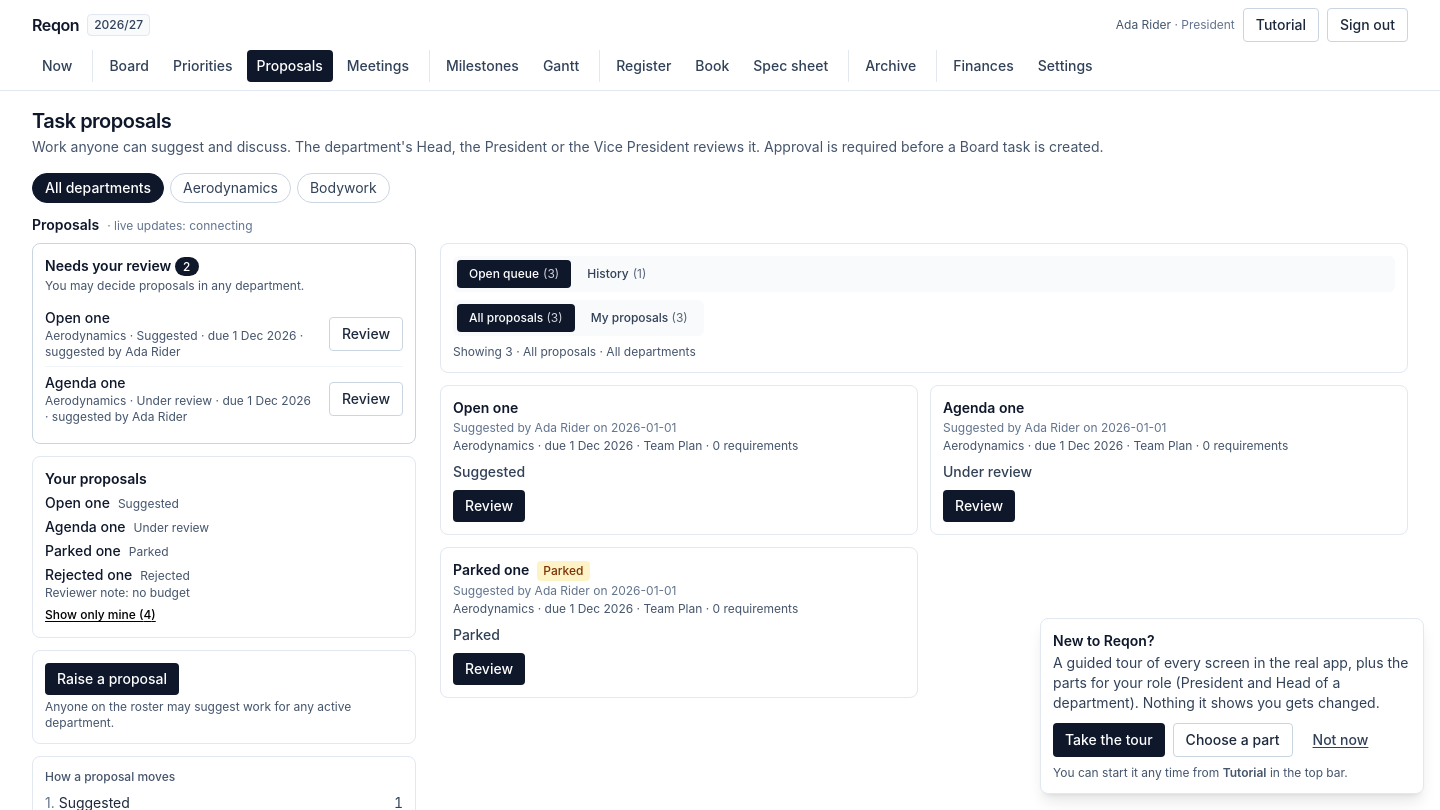
Scenario: a proposal is never a dead end › keeps parked work in the queue, marked, and moves decided work to History
Expected: the list item with test id "proposal-a" is shown, [440,385,918,535]
Expected: the list item with test id "proposal-c" is shown, [440,547,918,698]
Click the button "History(1)". click: (617, 274)
box: [575,260,658,288]
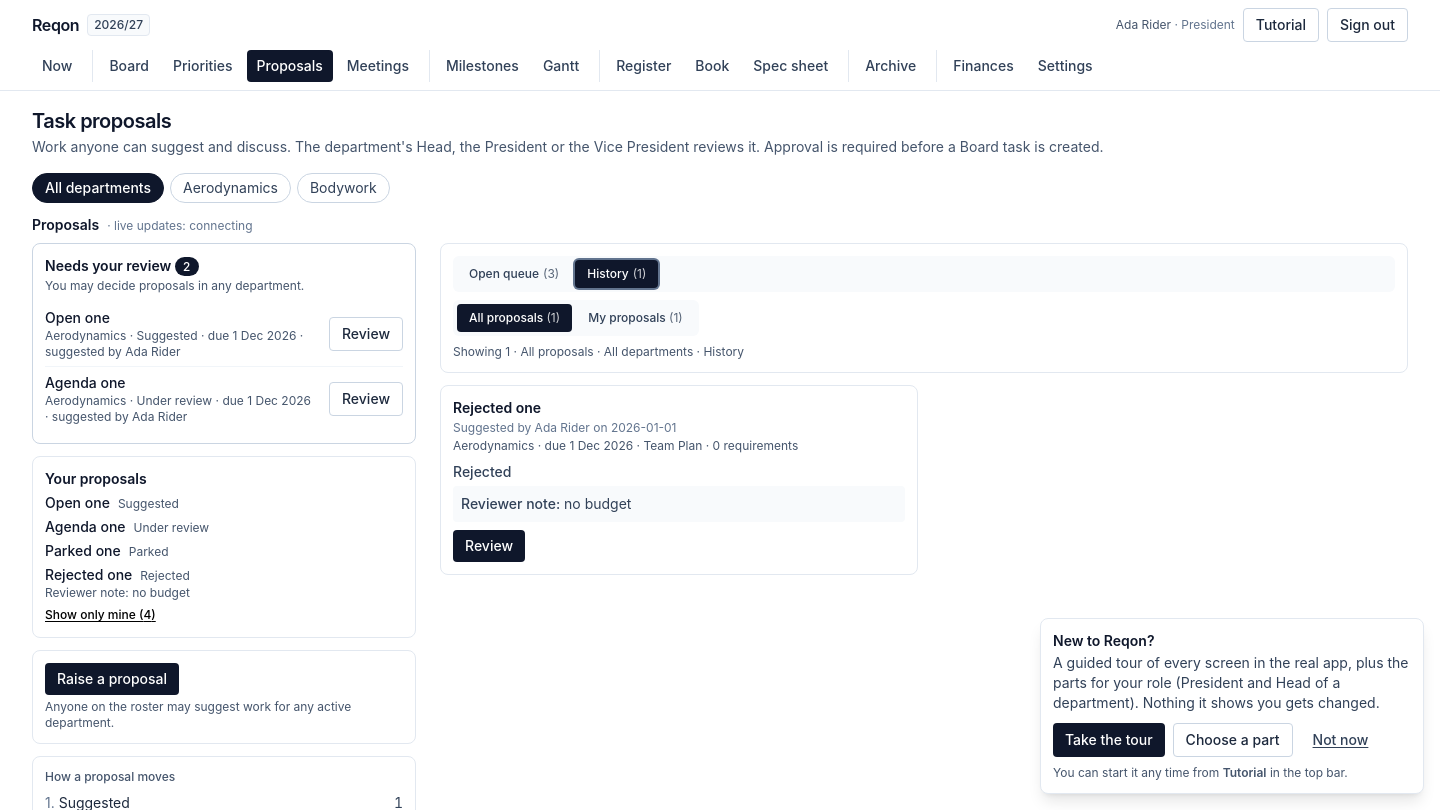
Result: the list item with test id "proposal-d" is shown at [440,385,918,575]
Result: the element with test id "proposal-status-d" reads "Rejected" at [453,463,512,480]
Result: the list item with test id "proposal-d" shows "no budget" at [564,495,632,512]
